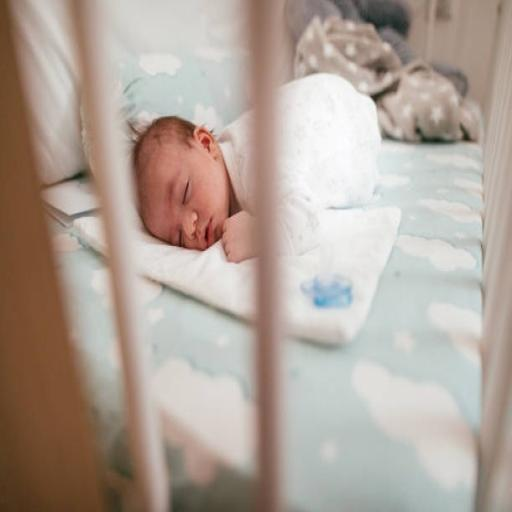baby: (132, 111, 255, 262)
crib: (168, 0, 511, 510)
